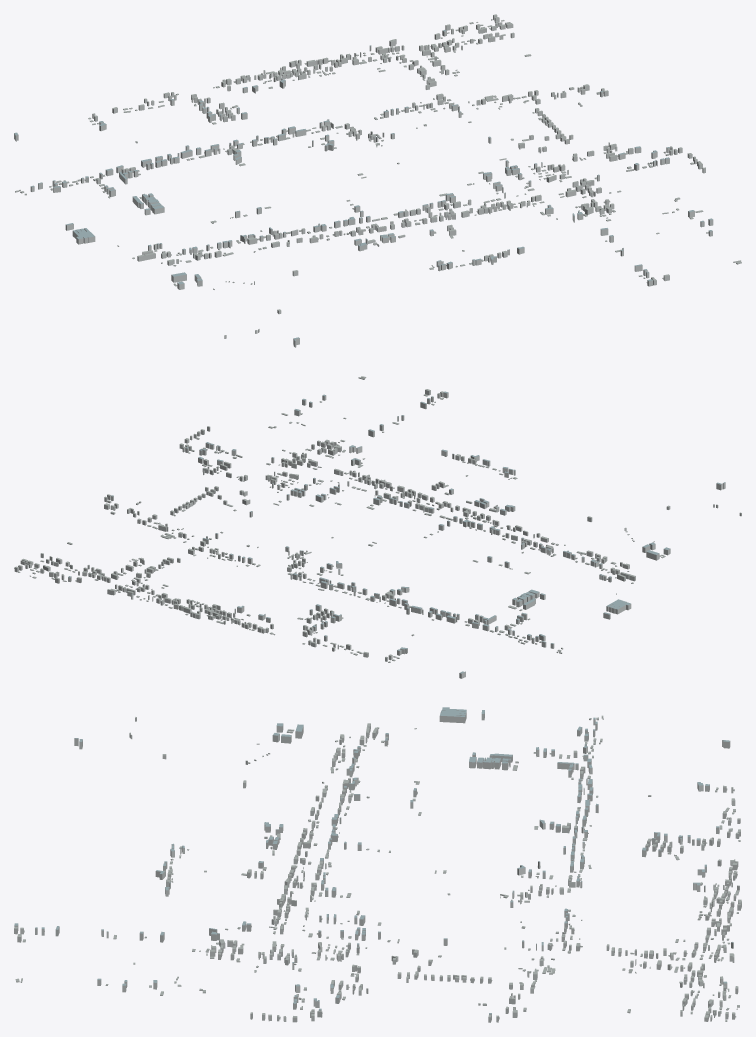
The model's file is far.glb.
3 renders of one model, top to bottom at view 1: azimuth 30°, elevation 25°; view 2: azimuth 150°, elevation 25°; view 3: azimuth 270°, elevation 25°, orthographic. The views are drawn at different scales.
Bounding box in the file's own units: 2095 × 24.4 × 2083.
